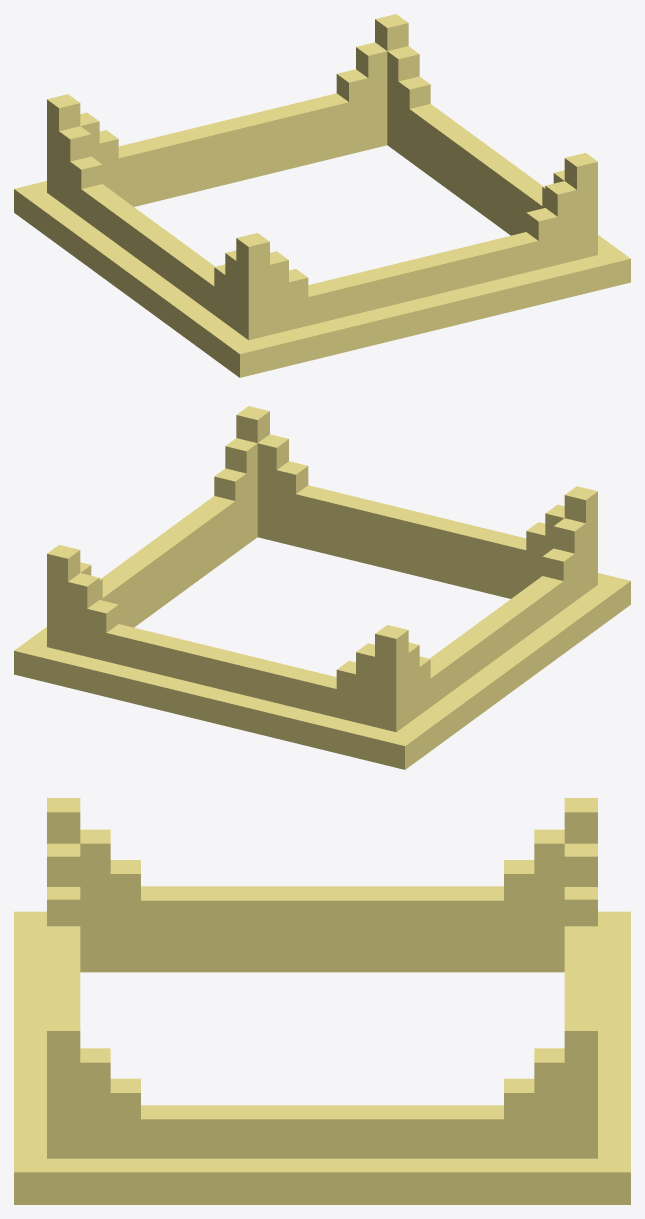
File: tower_decoration_3.FBX
3 renders of one model, top to bottom at view 1: azimuth 30°, elevation 25°; view 2: azimuth 150°, elevation 25°; view 3: azimuth 270°, elevation 25°, orthographic. The views are drawn at different scales.
Parts seen in each view (by area): view 1: tower_decoration_3; view 2: tower_decoration_3; view 3: tower_decoration_3.
Boxes of the visible parts, left/top/right/bottom form: tower_decoration_3: left=14, top=14, right=630, bottom=377; tower_decoration_3: left=14, top=406, right=630, bottom=769; tower_decoration_3: left=14, top=798, right=630, bottom=1204.
Bounding box in the file's own units: 11.19 × 3.2 × 11.19.
